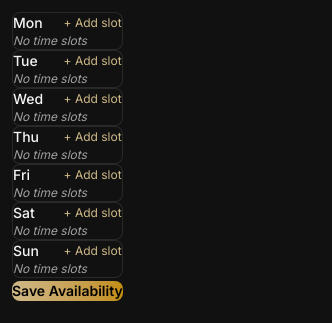
Test: AvailabilityEditor › Adding & Removing Slots › clicking "+ Add slot" adds a time slot row for that day
Expected: the text "Mon" is shown, 13,13 -> 43,33
Click the button with aria-label "Add time slot for Monday". click: coordinates (93, 23)
box: 64,15 -> 122,31
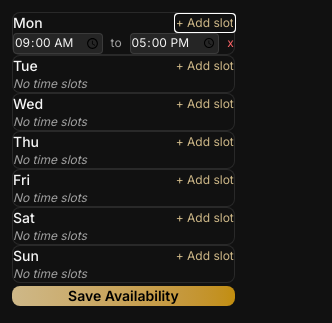
Expected: the time field named "Start time for Monday" is shown, 13,33 -> 103,54
Expected: the time field named "End time for Monday" is shown, 130,33 -> 219,54
